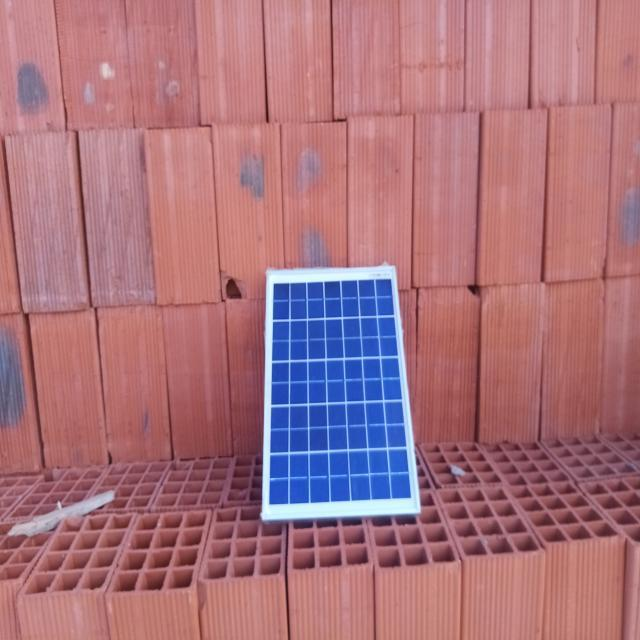no faulty: (263, 267, 419, 518)
